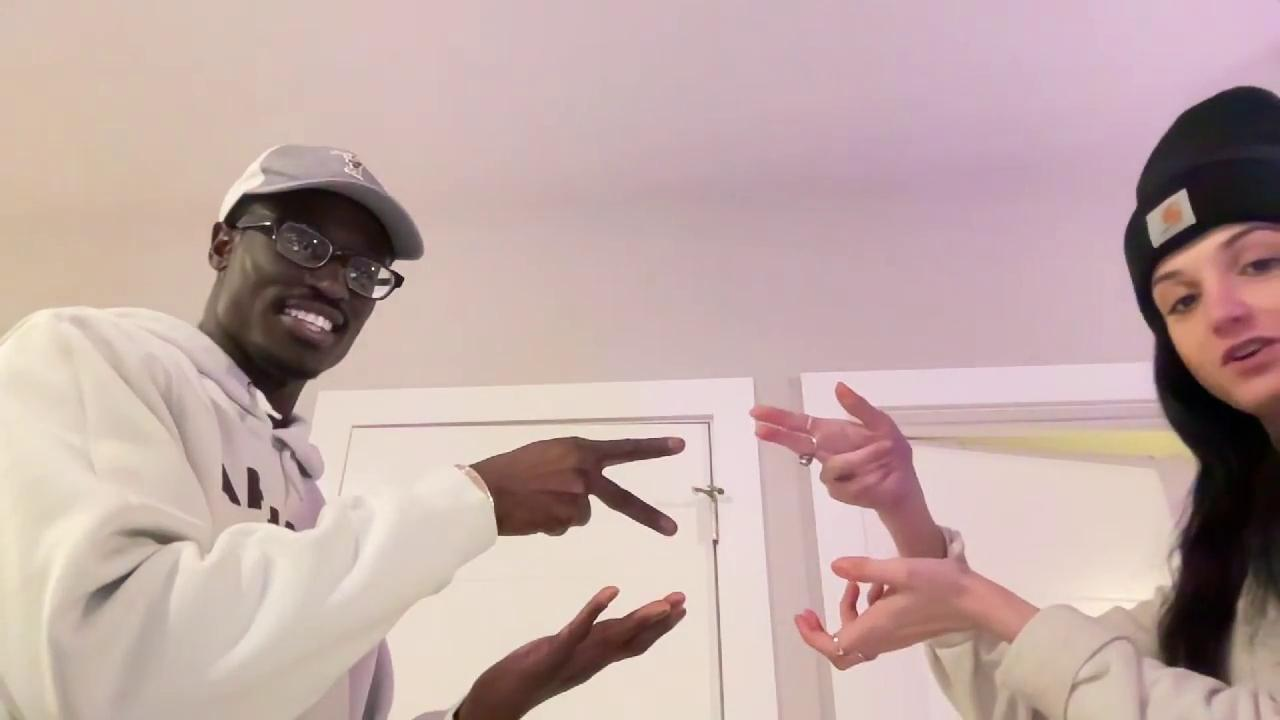Scissors: (468, 432, 685, 540)
